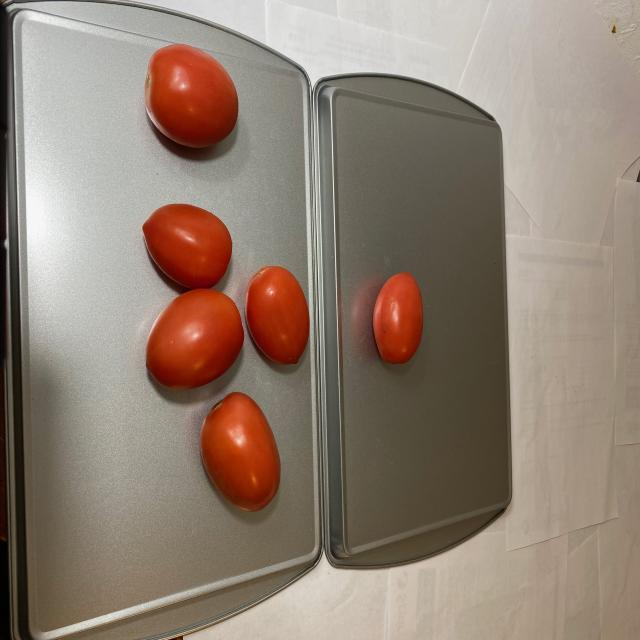tomato: (146, 38, 309, 524), (371, 266, 425, 365)
